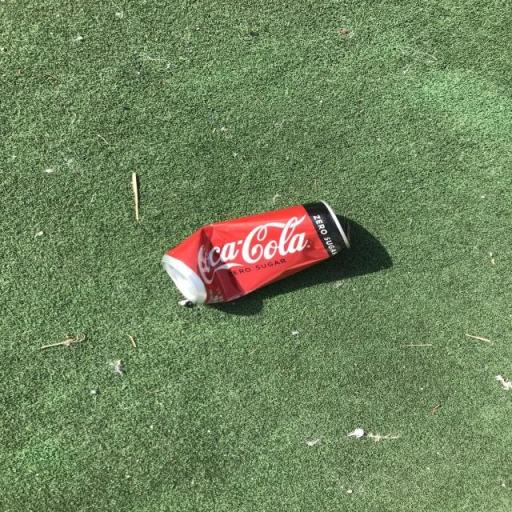metal: (102, 177, 388, 339)
